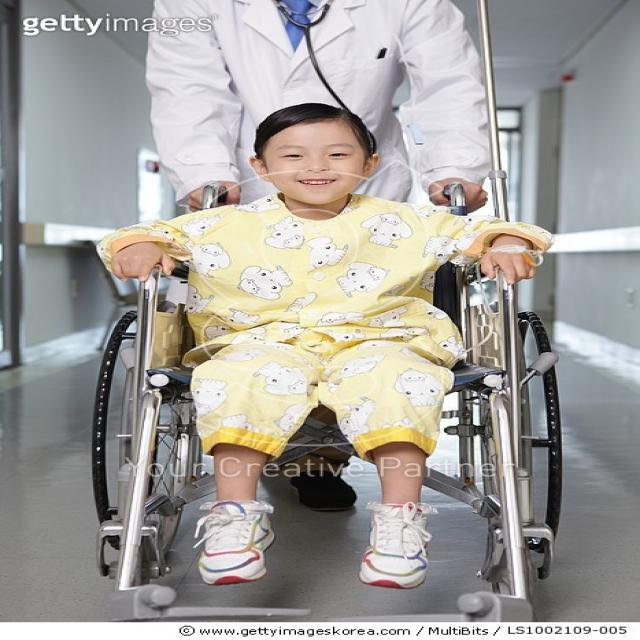wheelchair: (88, 101, 570, 615)
